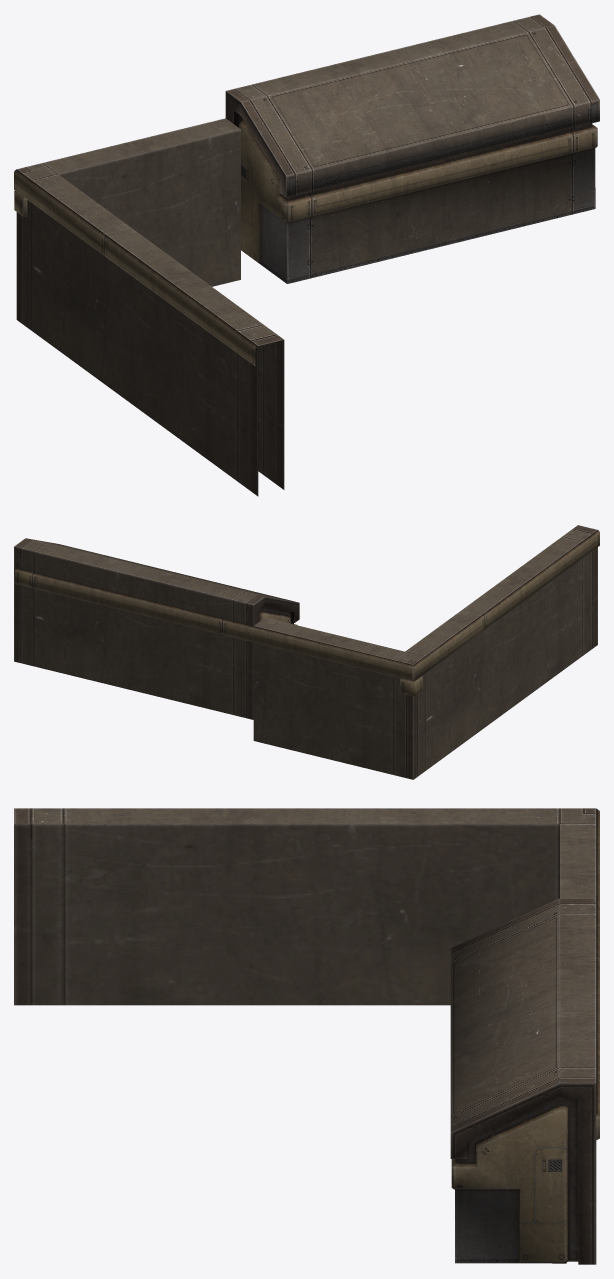
The model's file is computer_parts_chassis_control_room.dae.
3 views of the same model, one above another, from view 1: azimuth 30°, elevation 25°; view 2: azimuth 150°, elevation 25°; view 3: azimuth 270°, elevation 25° (orthographic). The views are drawn at different scales.
Visible parts, largest first — view 1: chassis_pplant_control_room; view 2: chassis_pplant_control_room; view 3: chassis_pplant_control_room.
Boxes of the visible parts, x1,y1,x2,y2 form: chassis_pplant_control_room: (14, 14, 599, 496); chassis_pplant_control_room: (14, 525, 599, 779); chassis_pplant_control_room: (14, 808, 599, 1264).
Size of the model in its own units: 5.02 by 1.62 by 4.02.
